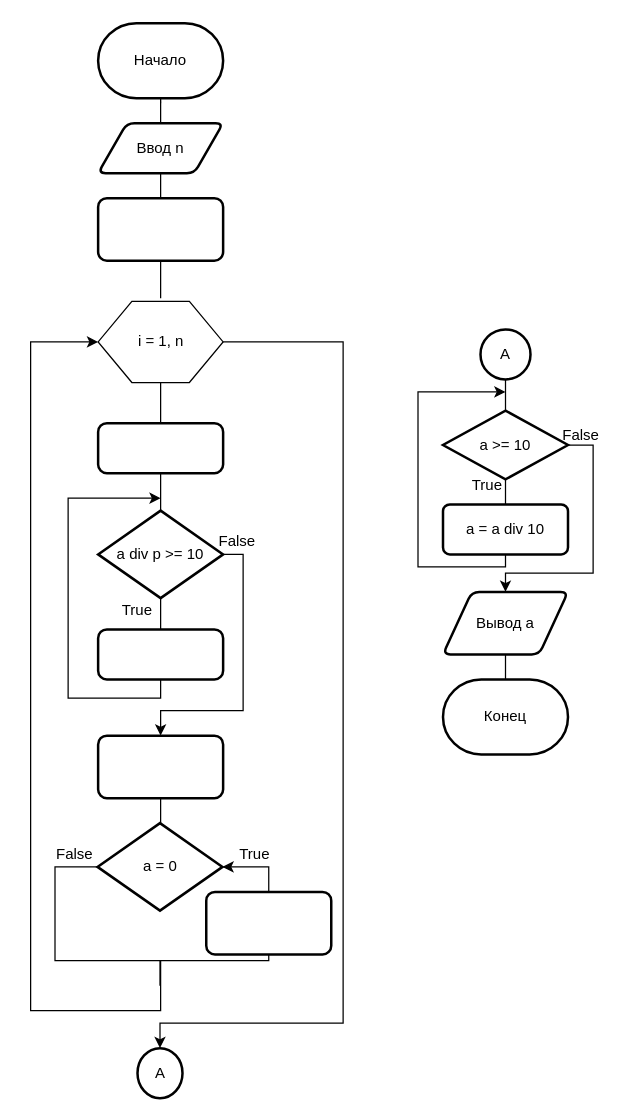
Image size: 634x1120. Some labels were removed from this diagram. The shapes that lost their labels are listed below. From the top down, each one's centre as x and y in pixels, then its label:
At point 160,228: "a = 0 t = 2".
At point 160,447: "p = 1".
At point 160,654: "p *= 10".
At point 160,766: "a -= (a div p) * p".
At point 268,922: "a = t t *= 2".
